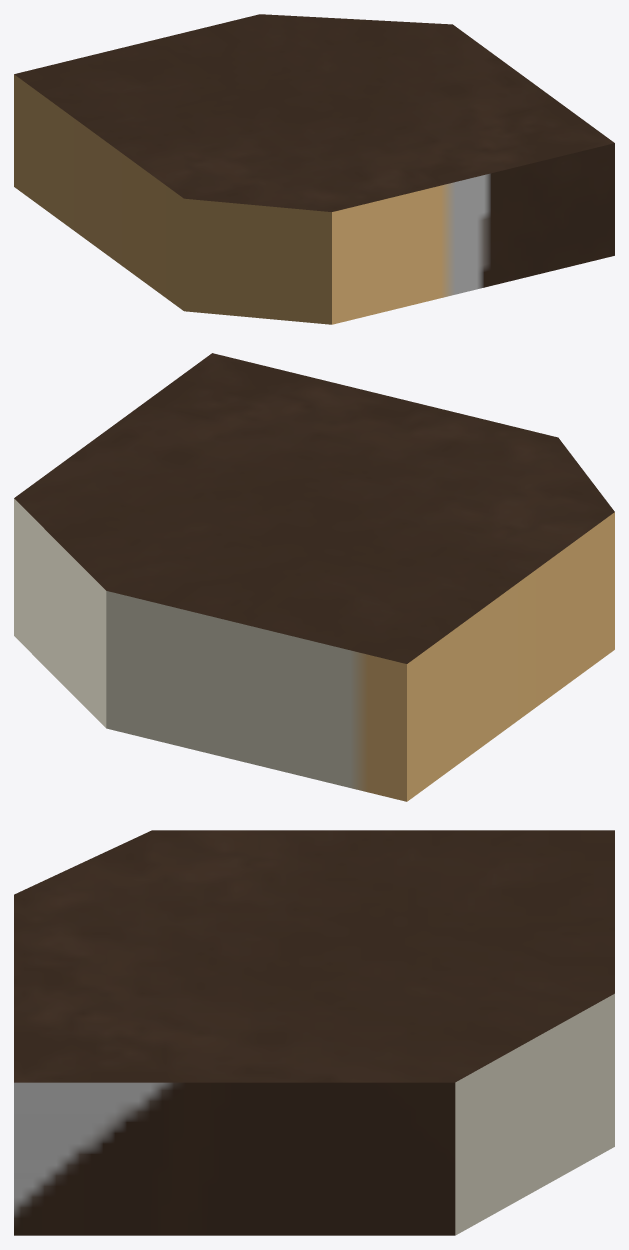
The model's file is M_3W_2F_building_parts1.fbx.
3 renders of one model, top to bottom at view 1: azimuth 30°, elevation 25°; view 2: azimuth 150°, elevation 25°; view 3: azimuth 270°, elevation 25°, orthographic. The views are drawn at different scales.
Parts seen in each view (by area): view 1: Object052; view 2: Object052; view 3: Object052.
Boxes of the visible parts, bbox=[...] form: Object052: bbox=[14, 14, 614, 324]; Object052: bbox=[14, 353, 614, 801]; Object052: bbox=[14, 830, 614, 1235].
Bounding box in the file's own units: 292 × 82.78 × 294.
